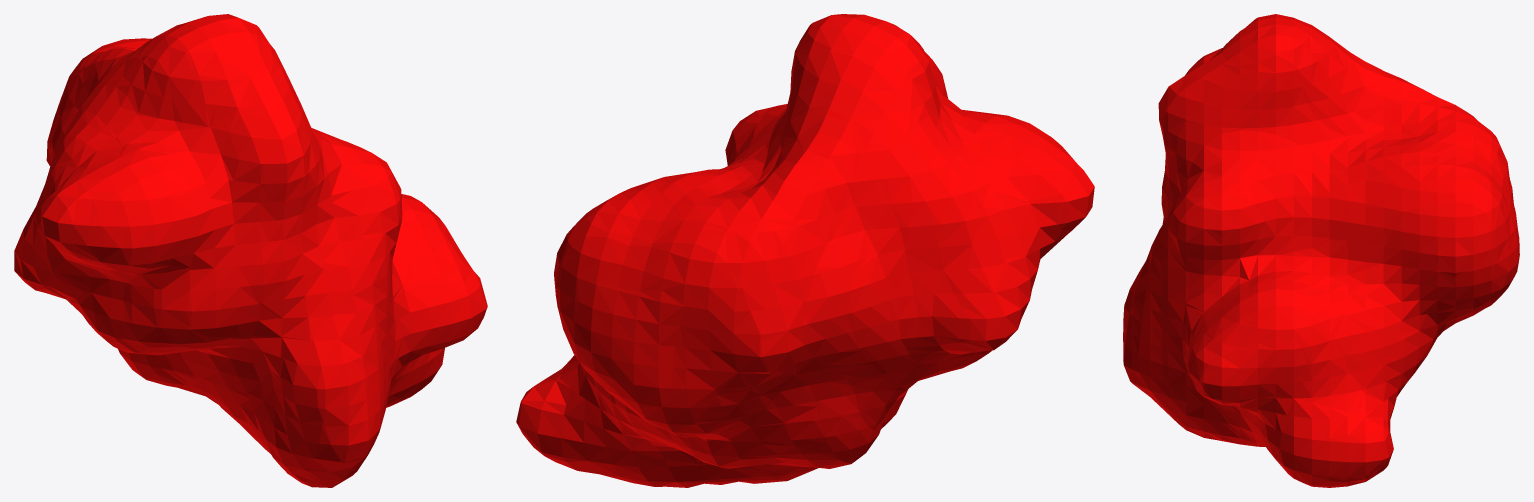
File: yjgM_coarse.dae
3 views of the same model, side by side, from view 1: azimuth 30°, elevation 25°; view 2: azimuth 150°, elevation 25°; view 3: azimuth 270°, elevation 25° (orthographic). The views are drawn at different scales.
Parts seen in each view (by area): view 1: yjgM; view 2: yjgM; view 3: yjgM.
Boxes of the visible parts, bbox=[...] form: yjgM: bbox=[14, 14, 487, 487]; yjgM: bbox=[516, 14, 1094, 487]; yjgM: bbox=[1123, 14, 1519, 487].
Bounding box in the file's own units: 50.07 × 47.69 × 44.53.
